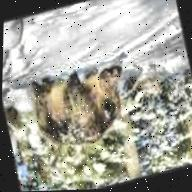boar: (2, 32, 160, 164)
